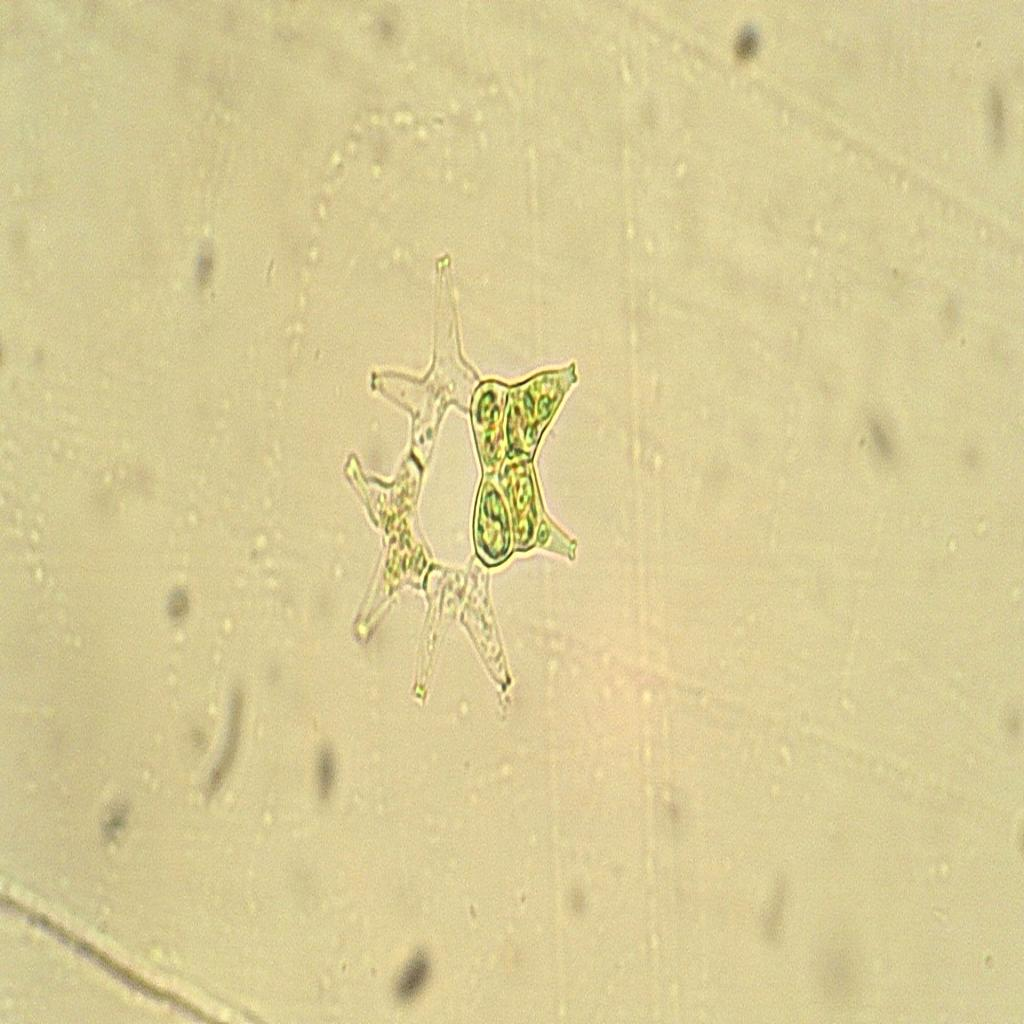Pediastrum_1F0: (317, 237, 606, 754)
